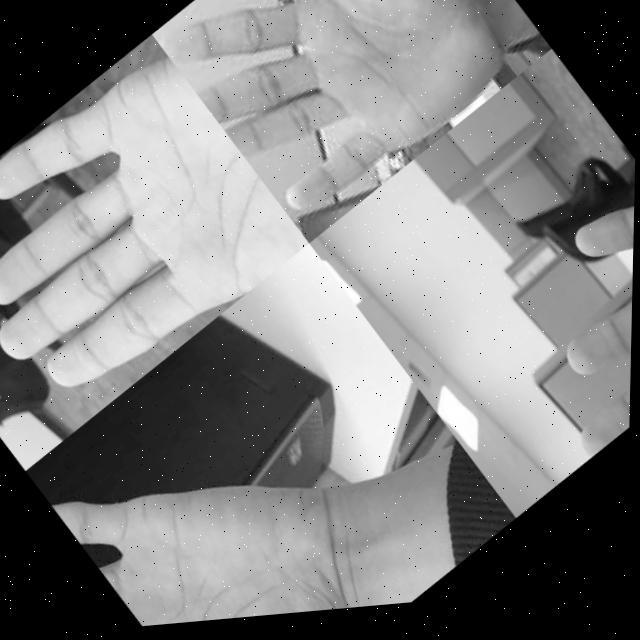no-gloves: (0, 24, 313, 442), (29, 337, 402, 638), (147, 0, 529, 254), (466, 172, 636, 478)
